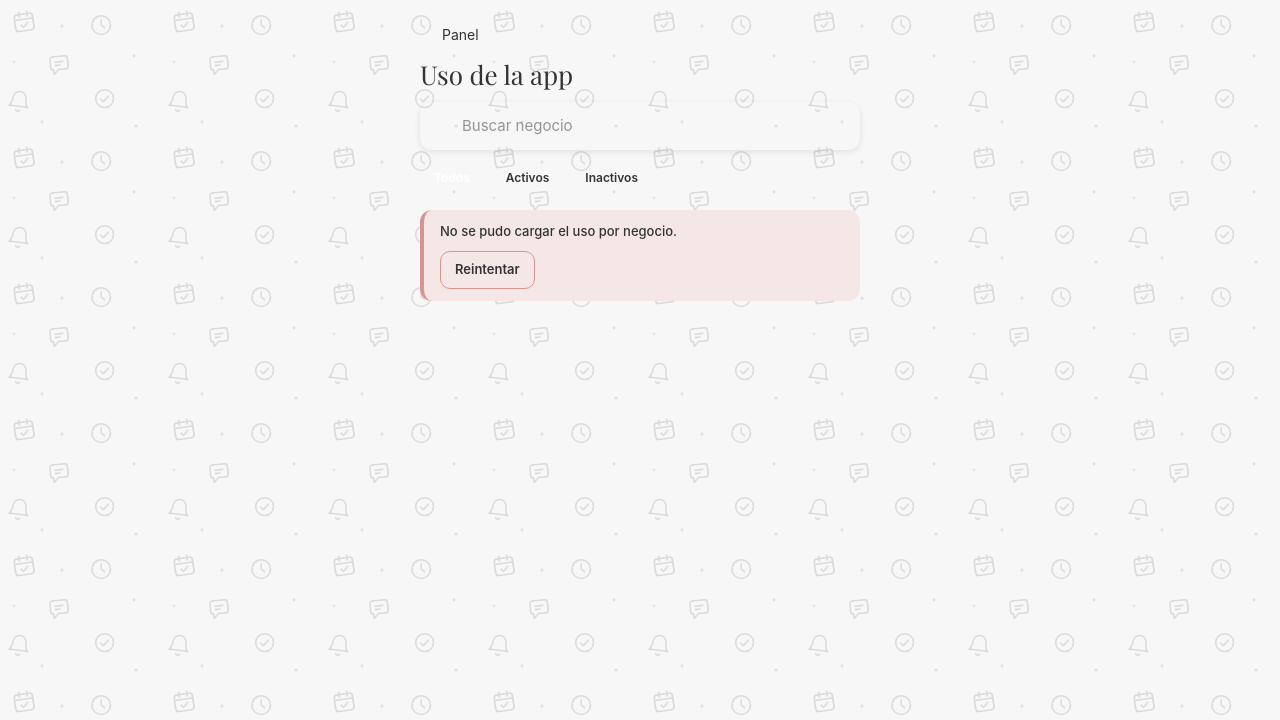
Scenario: UsoPage › muestra el error con Reintentar
The image size is (1280, 720).
Expected: the message shows "No se pudo cargar", left=440, top=223, right=677, bottom=239
Click the button "Reintentar": (487, 270) left=440, top=251, right=535, bottom=289
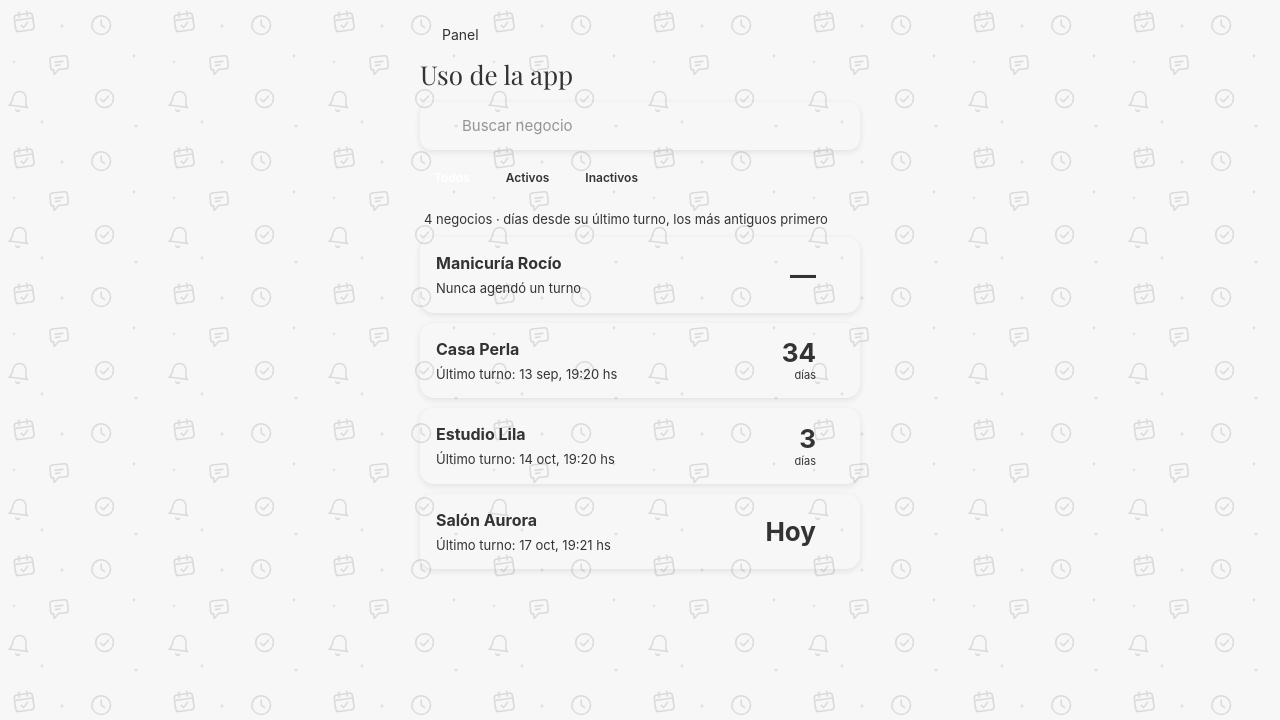
Expected: the text "Casa Perla" is shown, left=436, top=339, right=519, bottom=359
